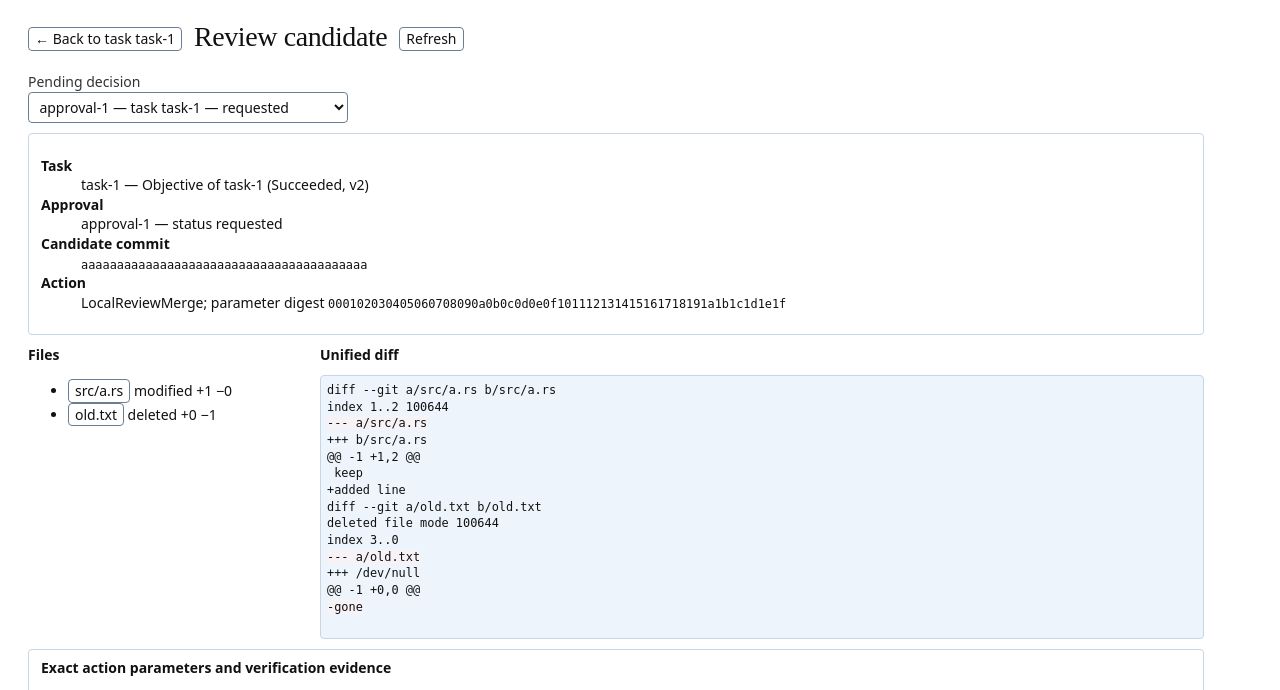
Test: S6 states › shows an empty diff
Click the button "Refresh".
click(431, 39)  # box [399,27,464,51]
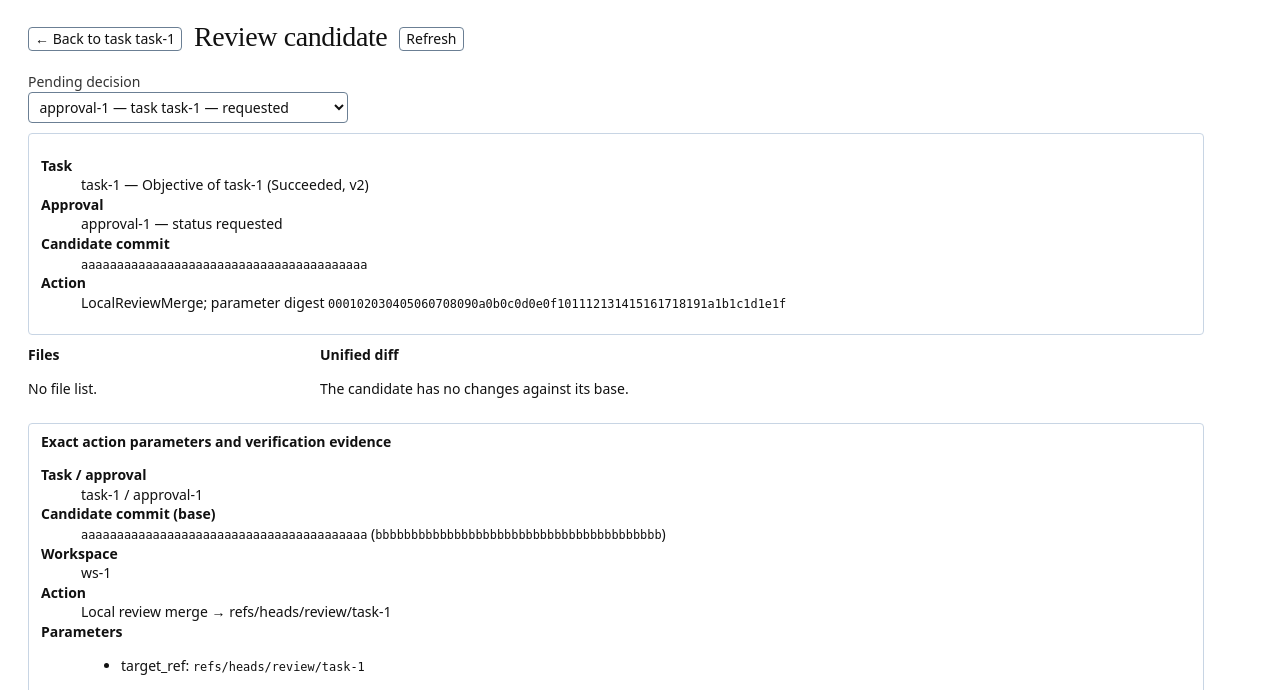
Check: the text "The candidate has no changes against its base." is shown, box [320,379,629,398]
